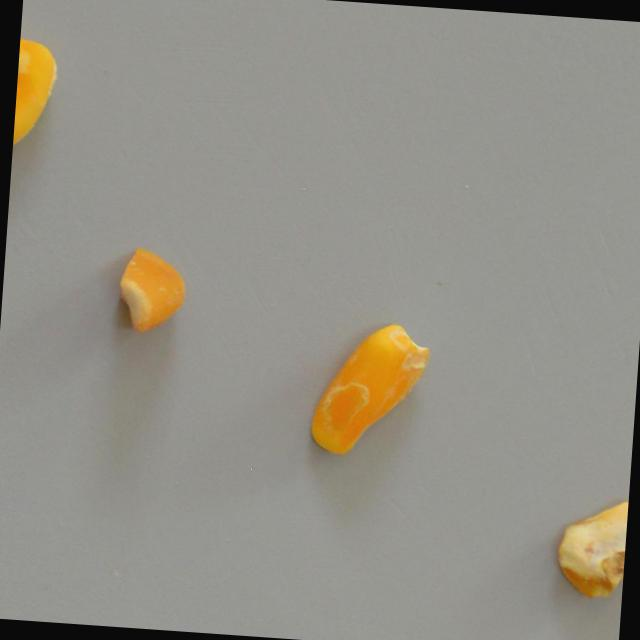dañado: (302, 310, 444, 468), (544, 492, 628, 603), (108, 241, 197, 339), (11, 30, 67, 157)
